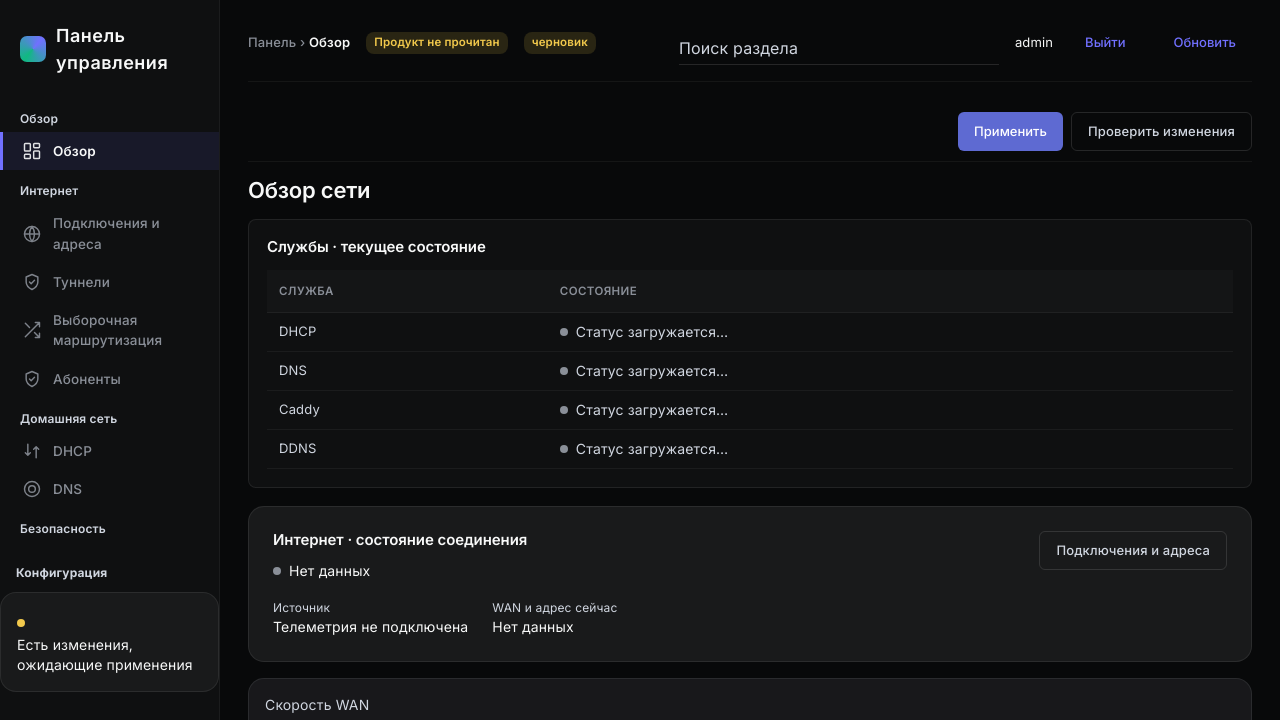
Scenario: warns that the first apply has no rollback target
Click the button "Применить": (1010, 131) [958, 112, 1063, 151]
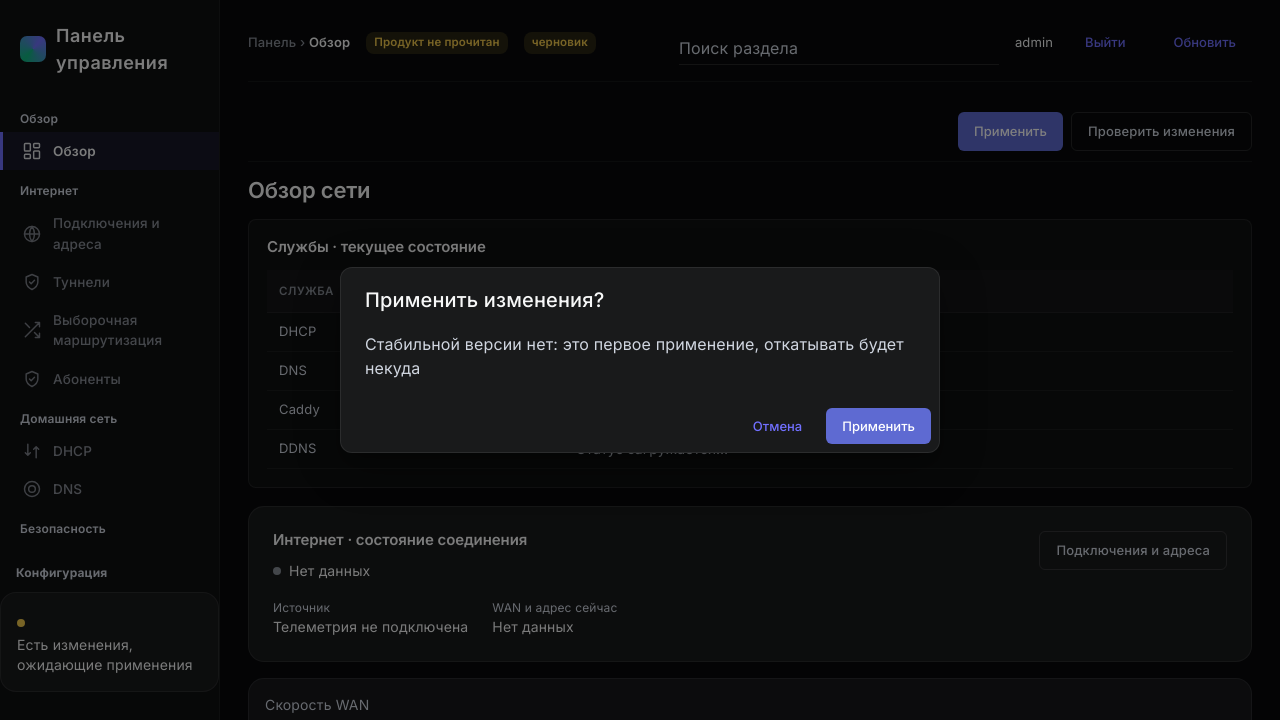
Expected: the text "Стабильной версии нет: это первое применение, откатывать будет некуда" is shown, [365, 332, 915, 380]
